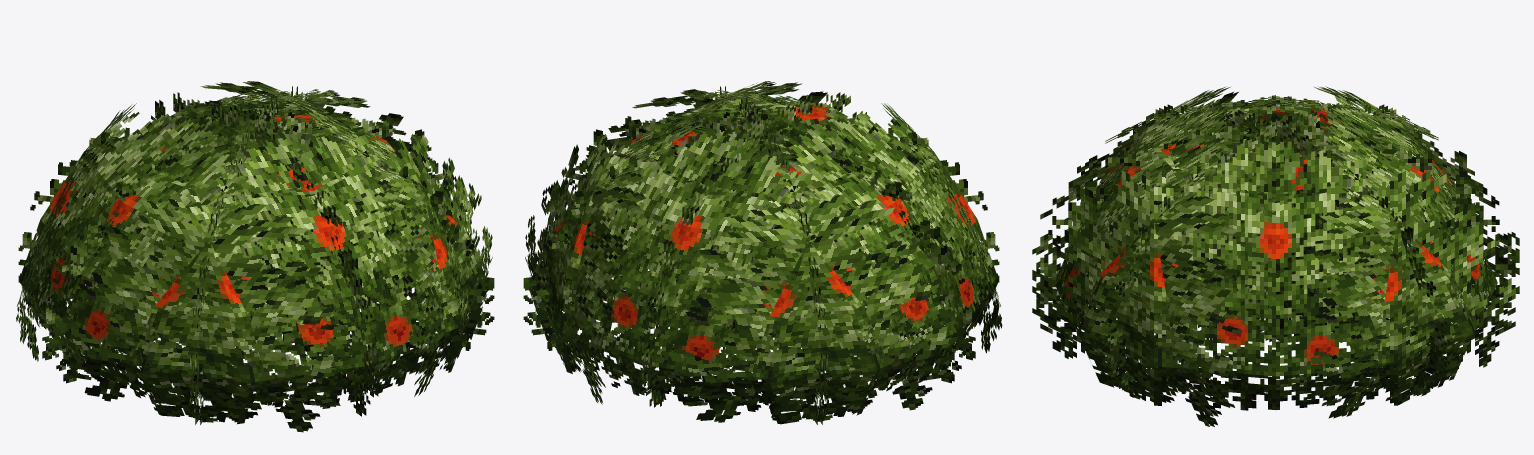
Rendered from bush06_spring4.glb.
3 views of the same model, side by side, from view 1: azimuth 30°, elevation 25°; view 2: azimuth 150°, elevation 25°; view 3: azimuth 270°, elevation 25° (orthographic).
Visible parts, largest first — view 1: bush06; view 2: bush06; view 3: bush06.
Part boxes in pixels (x1,y1,x2,y2): bush06: [16, 81, 494, 432]; bush06: [523, 81, 1002, 424]; bush06: [1032, 86, 1519, 426].
Bounding box in the file's own units: 3 × 1.5 × 3.
Materials: 1 (1 with a texture image).
